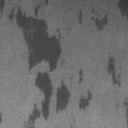red iron: (0, 0, 71, 128), (78, 8, 109, 30), (107, 56, 121, 87), (78, 90, 92, 110), (118, 0, 128, 19), (123, 101, 128, 128), (78, 69, 83, 84), (0, 112, 2, 124)
